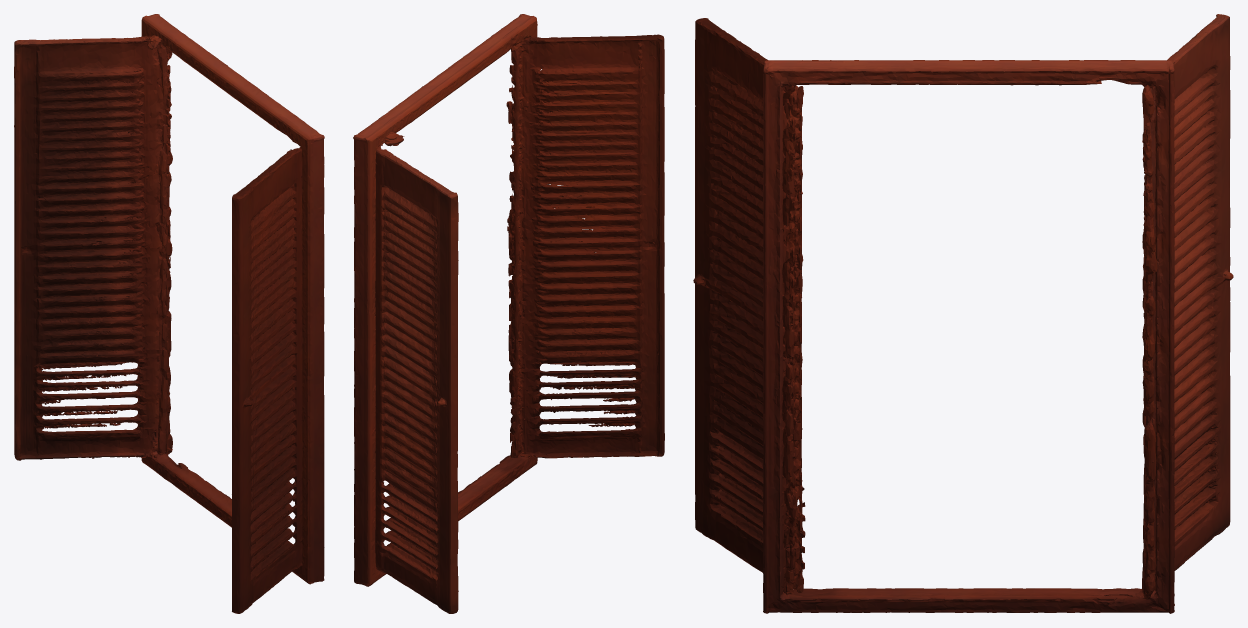
3 renders of one model, left to right at view 1: azimuth 30°, elevation 25°; view 2: azimuth 150°, elevation 25°; view 3: azimuth 270°, elevation 25°, orthographic. The views are drawn at different scales.
Visible parts, largest first — view 1: part_2, part_1, part_0; view 2: part_1, part_2, part_0; view 3: part_0, part_1, part_2.
Boxes of the visible parts, box(x1,y1,x2,y2) form: part_2: box(14, 35, 172, 460); part_1: box(232, 147, 302, 613); part_0: box(141, 14, 324, 584); part_1: box(506, 34, 664, 458); part_2: box(375, 131, 458, 613); part_0: box(353, 14, 537, 586); part_0: box(763, 60, 1174, 613); part_1: box(693, 18, 805, 592); part_2: box(1142, 14, 1233, 599).
Size of the model in its own units: 0.5129 by 1.68 by 1.51.
